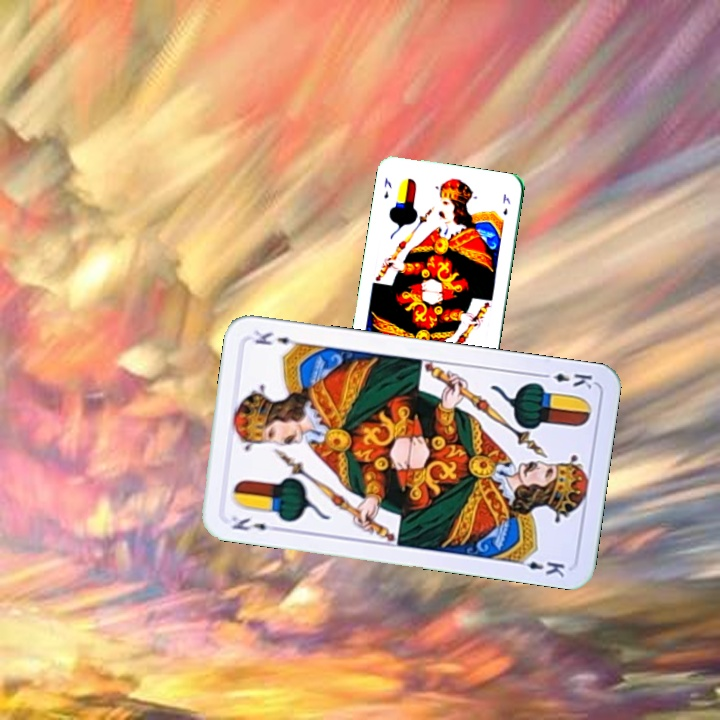EK: (536, 369, 595, 391), (227, 512, 282, 534), (380, 173, 394, 201)
